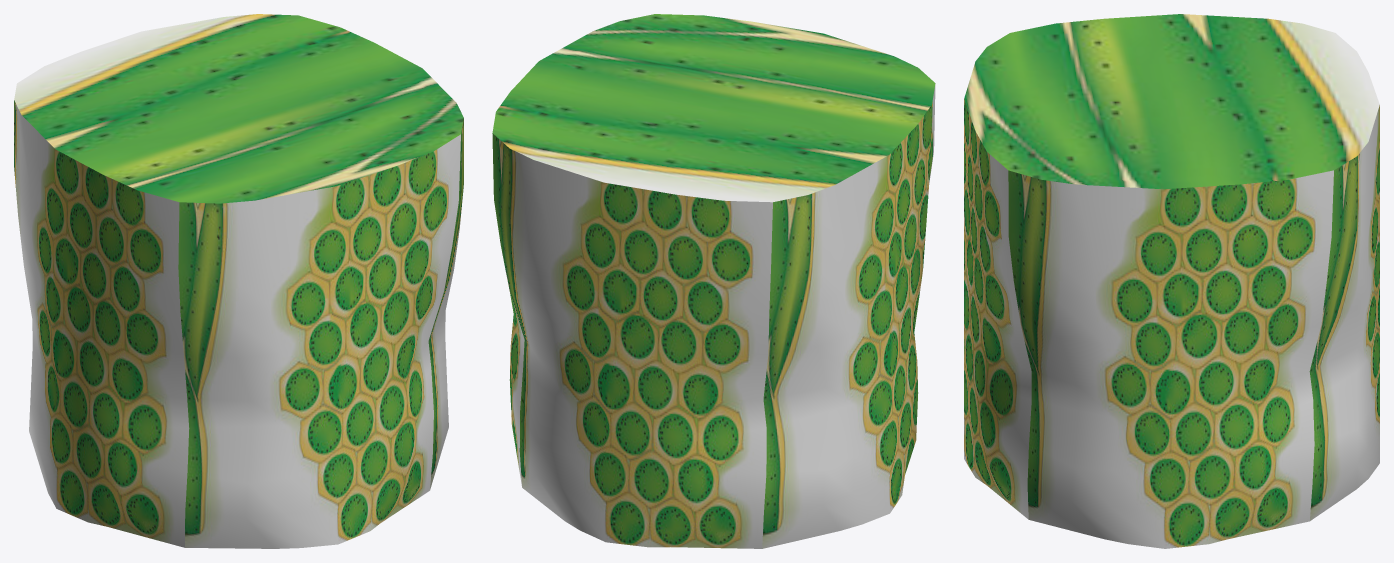
Rendered from sclerenchyma.fbx.
The picture shows the model from 3 angles, left to right: view 1: azimuth 30°, elevation 25°; view 2: azimuth 150°, elevation 25°; view 3: azimuth 270°, elevation 25°; orthographic projection.
Parts seen in each view (by area): view 1: sclerenchyma_; view 2: sclerenchyma_; view 3: sclerenchyma_.
Boxes of the visible parts, left/top/right/bottom form: sclerenchyma_: left=14, top=14, right=463, bottom=548; sclerenchyma_: left=492, top=14, right=935, bottom=548; sclerenchyma_: left=964, top=14, right=1379, bottom=548.
Bounding box in the file's own units: 289 × 277 × 290.
Materials: 1 (1 with a texture image).
